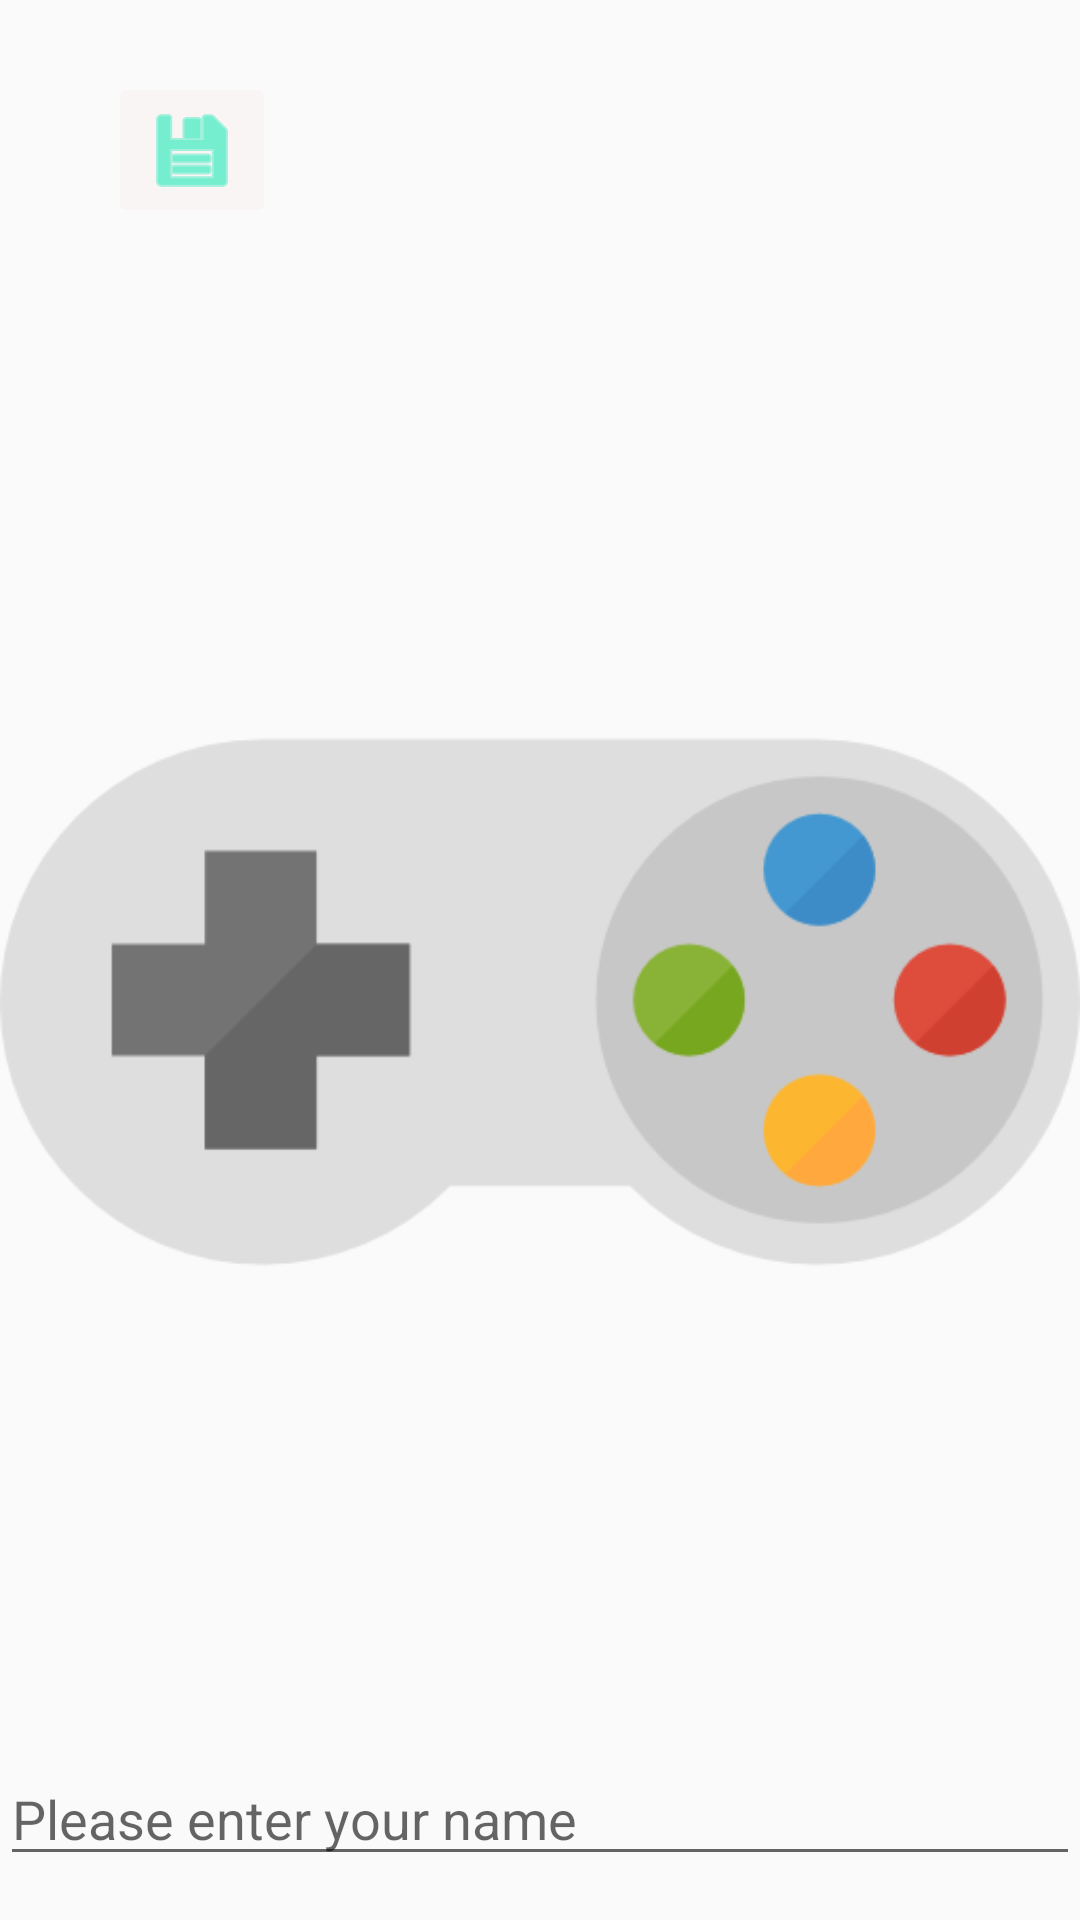

Named icons in this screenshot (1080 x 1920) and their centers, point (x, y):
save: point (192, 150)
